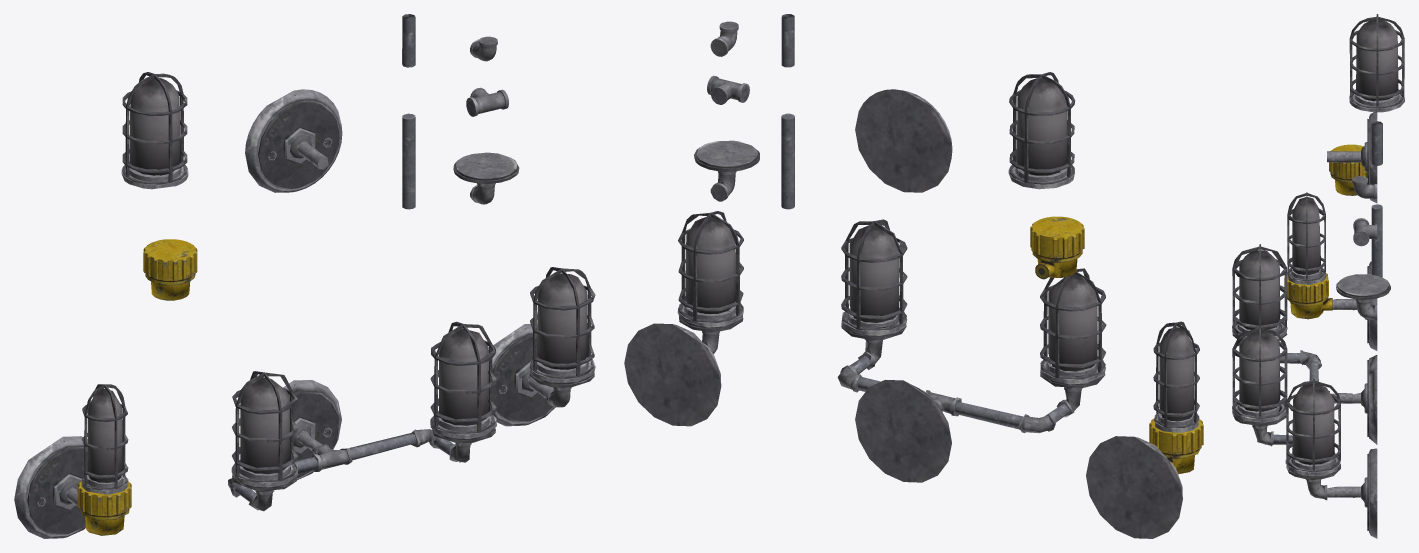
File: industrial_caged_sconce.112b0ea2.glb
3 renders of one model, left to right at view 1: azimuth 30°, elevation 25°; view 2: azimuth 150°, elevation 25°; view 3: azimuth 270°, elevation 25°, orthographic. The views are drawn at different scales.
Parts seen in each view (by area): view 1: industrial_caged_sconce_c, industrial_caged_sconce_b, industrial_caged_sconce_a, industrial_caged_sconce_mount, industrial_caged_sconce_light, industrial_caged_sconce_base_a, industrial_caged_sconce_base_b, industrial_caged_sconce_pipe_long, industrial_caged_sconce_pipe_t, industrial_caged_sconce_pipe_short; view 2: industrial_caged_sconce_c, industrial_caged_sconce_a, industrial_caged_sconce_b, industrial_caged_sconce_mount, industrial_caged_sconce_light, industrial_caged_sconce_base_a, industrial_caged_sconce_base_b, industrial_caged_sconce_pipe_long, industrial_caged_sconce_pipe_t, industrial_caged_sconce_pipe_short, industrial_caged_sconce_elbow; view 3: industrial_caged_sconce_c, industrial_caged_sconce_a, industrial_caged_sconce_b, industrial_caged_sconce_light, industrial_caged_sconce_base_b, industrial_caged_sconce_mount, industrial_caged_sconce_base_a, industrial_caged_sconce_pipe_long, industrial_caged_sconce_pipe_t, industrial_caged_sconce_pipe_short, industrial_caged_sconce_elbow.
Boxes of the visible parts, box(x1,y1,x2,y2) form: industrial_caged_sconce_c: box(228, 321, 496, 511); industrial_caged_sconce_b: box(14, 384, 131, 538); industrial_caged_sconce_a: box(488, 267, 595, 426); industrial_caged_sconce_mount: box(245, 89, 342, 192); industrial_caged_sconce_light: box(121, 72, 188, 189); industrial_caged_sconce_base_a: box(143, 239, 197, 300); industrial_caged_sconce_base_b: box(453, 152, 519, 204); industrial_caged_sconce_pipe_long: box(402, 113, 415, 209); industrial_caged_sconce_pipe_t: box(466, 87, 508, 116); industrial_caged_sconce_pipe_short: box(402, 14, 415, 67); industrial_caged_sconce_c: box(837, 219, 1106, 482); industrial_caged_sconce_a: box(624, 211, 743, 426); industrial_caged_sconce_b: box(1086, 321, 1203, 538); industrial_caged_sconce_mount: box(855, 89, 952, 192); industrial_caged_sconce_light: box(1008, 72, 1075, 189); industrial_caged_sconce_base_a: box(1030, 216, 1084, 279); industrial_caged_sconce_base_b: box(694, 140, 759, 201); industrial_caged_sconce_pipe_long: box(781, 113, 794, 209); industrial_caged_sconce_pipe_t: box(707, 75, 749, 104); industrial_caged_sconce_pipe_short: box(781, 14, 794, 67); industrial_caged_sconce_elbow: box(710, 21, 738, 56); industrial_caged_sconce_c: box(1232, 244, 1377, 446); industrial_caged_sconce_a: box(1285, 378, 1377, 538); industrial_caged_sconce_b: box(1284, 192, 1377, 350); industrial_caged_sconce_light: box(1349, 14, 1404, 112); industrial_caged_sconce_base_b: box(1336, 274, 1390, 320); industrial_caged_sconce_mount: box(1327, 111, 1377, 203); industrial_caged_sconce_base_a: box(1329, 144, 1367, 195); industrial_caged_sconce_pipe_long: box(1371, 204, 1382, 277); industrial_caged_sconce_pipe_t: box(1353, 218, 1377, 246); industrial_caged_sconce_pipe_short: box(1371, 121, 1382, 165); industrial_caged_sconce_elbow: box(1352, 176, 1377, 199).
Bounding box in the file's own units: 0.95 × 0.7166 × 0.3057.
Materials: 1 (1 with a texture image).
